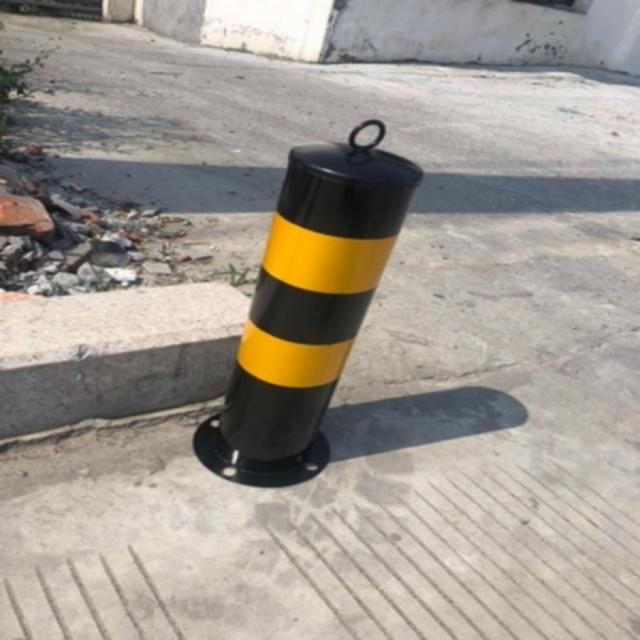warning_column: (188, 117, 420, 490)
